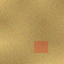vehicle: (34, 41, 48, 53)
